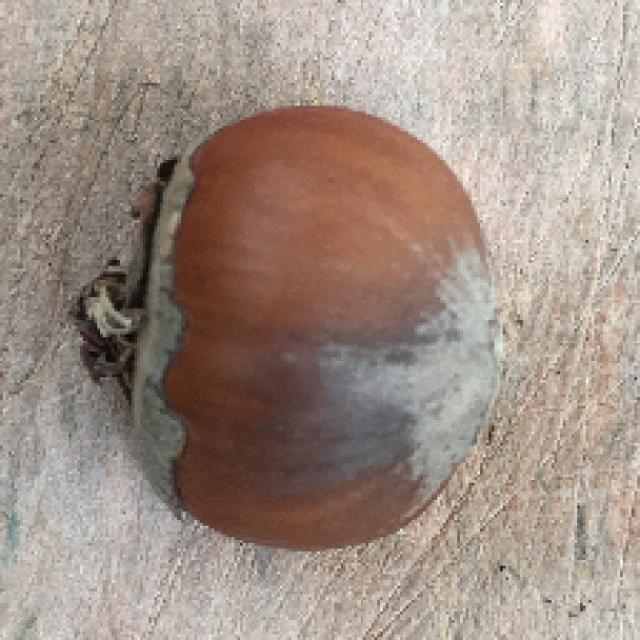damagedHazelnut: (77, 108, 526, 564)
